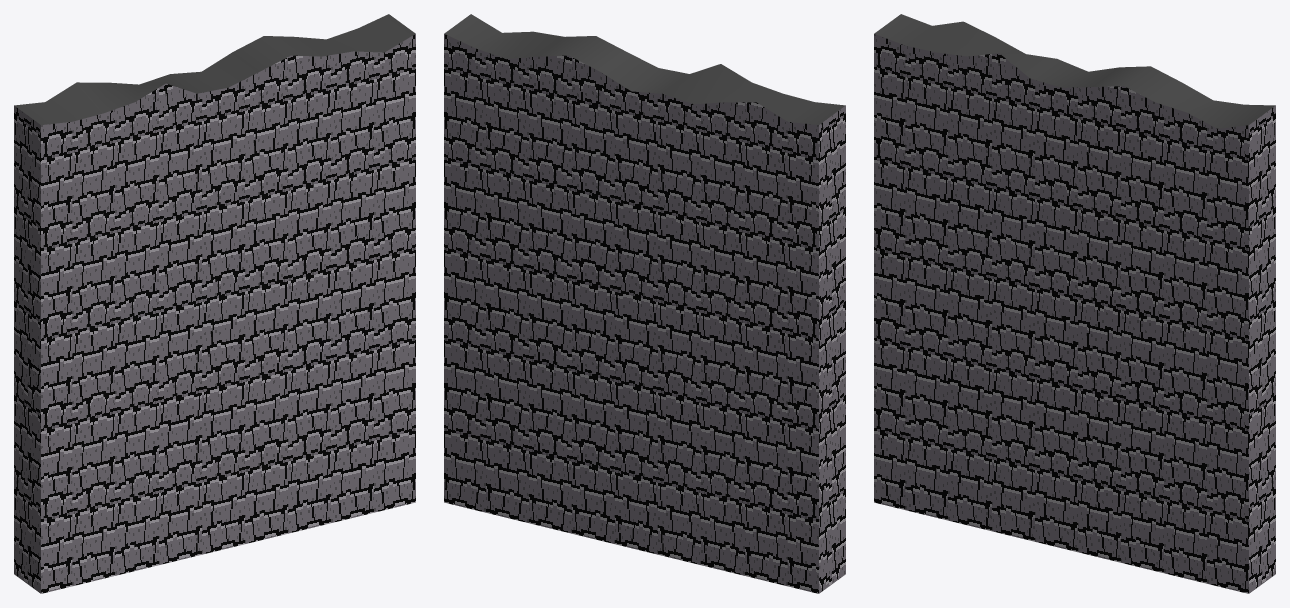
Rendered from BrokenRuinsWallLarge.fbx.
The picture shows the model from 3 angles, left to right: view 1: azimuth 30°, elevation 25°; view 2: azimuth 150°, elevation 25°; view 3: azimuth 330°, elevation 25°; orthographic projection.
Parts seen in each view (by area): view 1: BrokenRuinsWallHigh; view 2: BrokenRuinsWallHigh; view 3: BrokenRuinsWallHigh.
Boxes of the visible parts, bbox=[...] form: BrokenRuinsWallHigh: bbox=[14, 14, 415, 593]; BrokenRuinsWallHigh: bbox=[444, 14, 845, 593]; BrokenRuinsWallHigh: bbox=[874, 14, 1275, 593].
Bounding box in the file's own units: 4099 × 5016 × 510.
2 materials, 1 textured.
